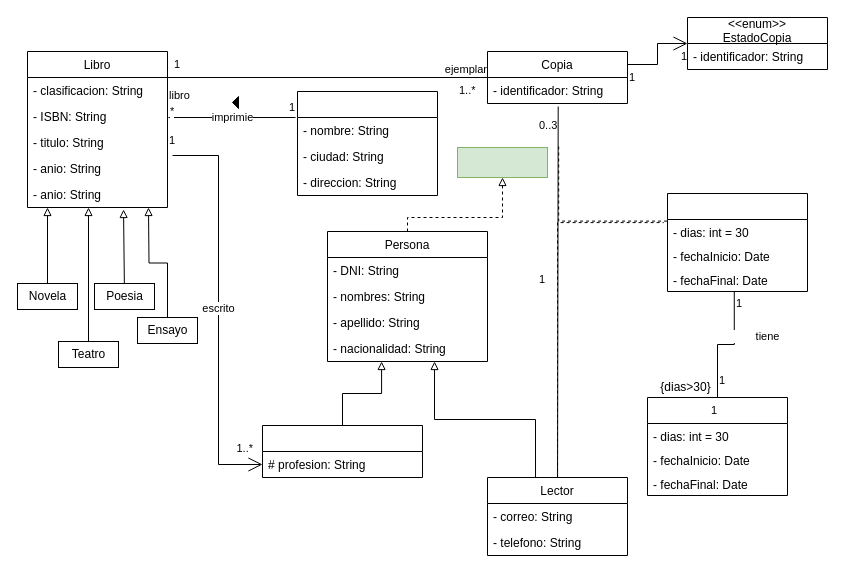
Some shapes in this 845 by 576 pixel diagram are drawn without their labels. Here are the shapes that lost their labels. From the top down, the box of each, then its label:
(296, 90, 438, 196): Editorial
(456, 146, 548, 178): «interface» Serializable
(666, 192, 808, 292): Prestamo
(262, 424, 422, 478): Autor
(646, 396, 788, 496): Multa
